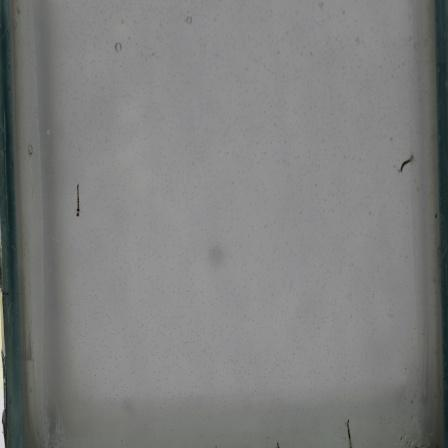Jentik-Nyamuk: (397, 152, 418, 177), (342, 418, 359, 448), (73, 181, 83, 223)
